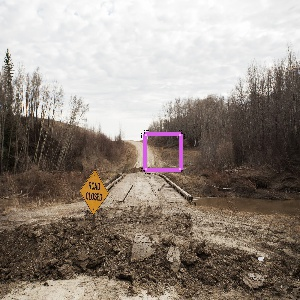square: (141, 129, 184, 174)
